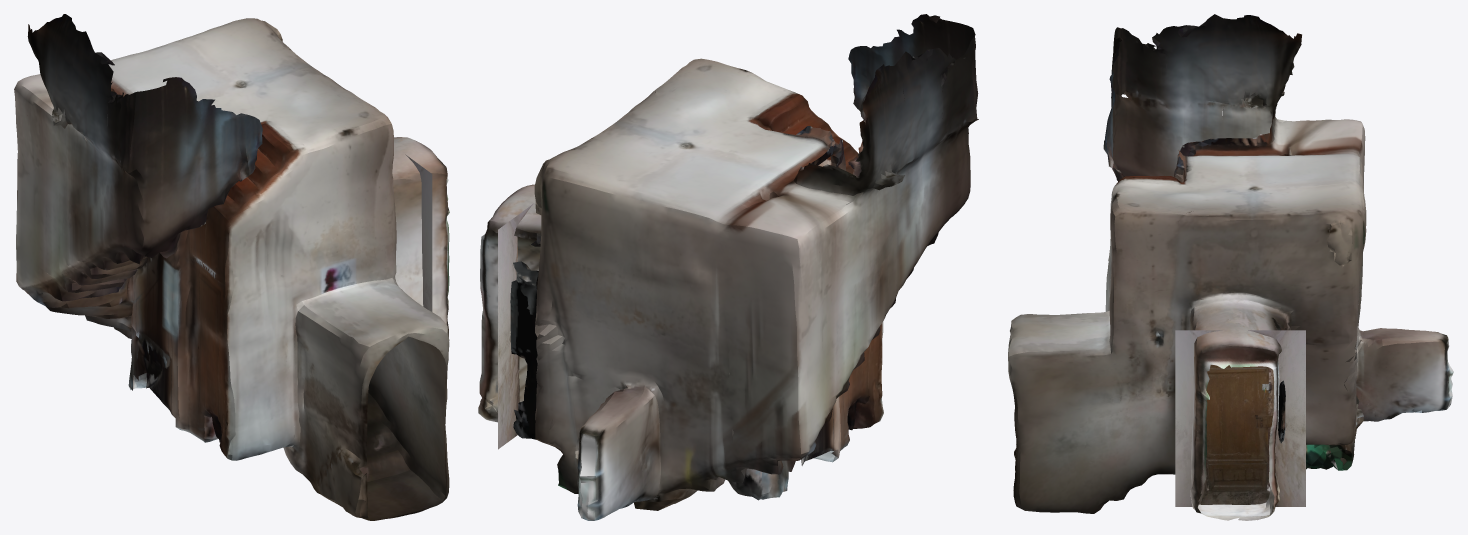
File: PillarRoom.fbx
The picture shows the model from 3 angles, left to right: view 1: azimuth 30°, elevation 25°; view 2: azimuth 150°, elevation 25°; view 3: azimuth 270°, elevation 25°; orthographic projection. The views are drawn at different scales.
Visible parts, largest first — view 1: SaeulenRaumOhneSäule, OutsideDoor; view 2: SaeulenRaumOhneSäule, OutsideDoor; view 3: SaeulenRaumOhneSäule, OutsideDoor.
Boxes of the visible parts, x1,y1,x2,y2 form: SaeulenRaumOhneSäule: [14, 14, 449, 520]; OutsideDoor: [405, 154, 432, 311]; SaeulenRaumOhneSäule: [478, 14, 978, 520]; OutsideDoor: [498, 203, 533, 449]; SaeulenRaumOhneSäule: [1008, 14, 1453, 520]; OutsideDoor: [1175, 330, 1305, 506].
Bounding box in the file's own units: 440 × 503 × 514.
Materials: 2 (2 with a texture image).
